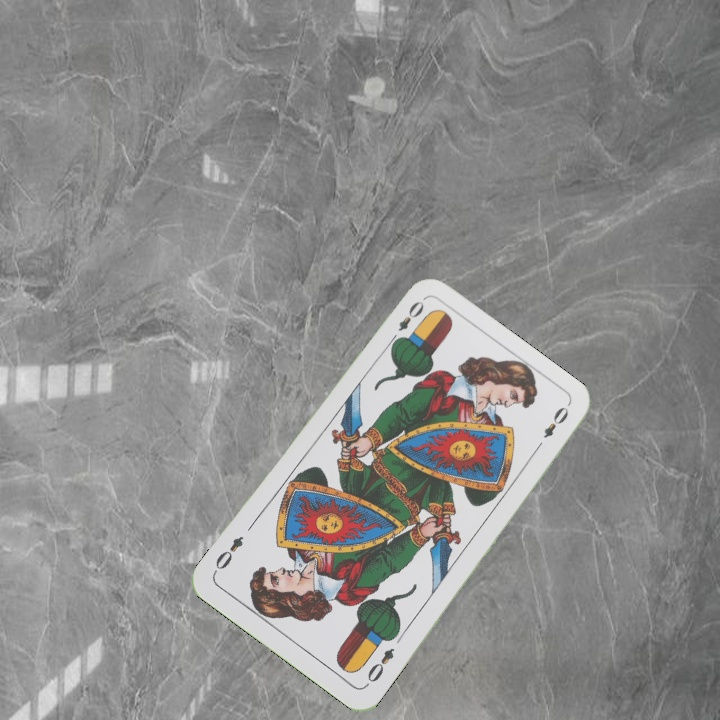EO: (385, 296, 427, 347), (361, 643, 397, 689)
